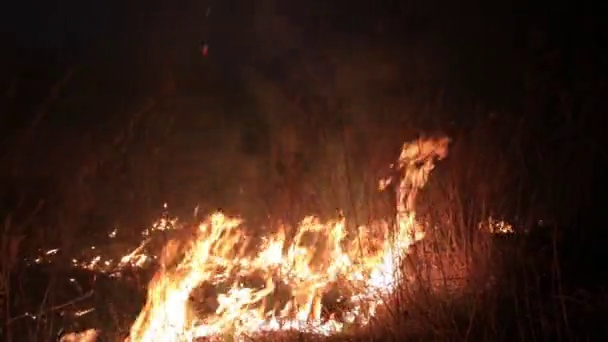fire: (123, 134, 451, 342), (59, 328, 97, 342), (495, 218, 511, 233)
